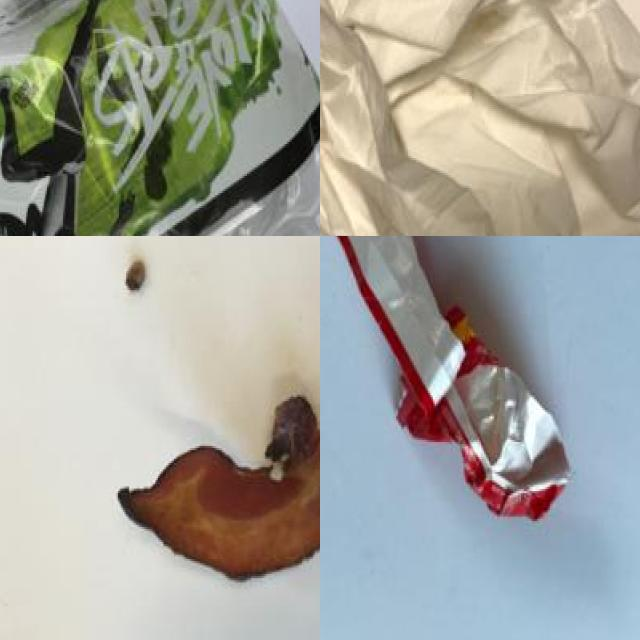compost: (98, 255, 320, 598)
plastic: (0, 0, 320, 236)
trash: (320, 236, 607, 538), (320, 0, 640, 236)
